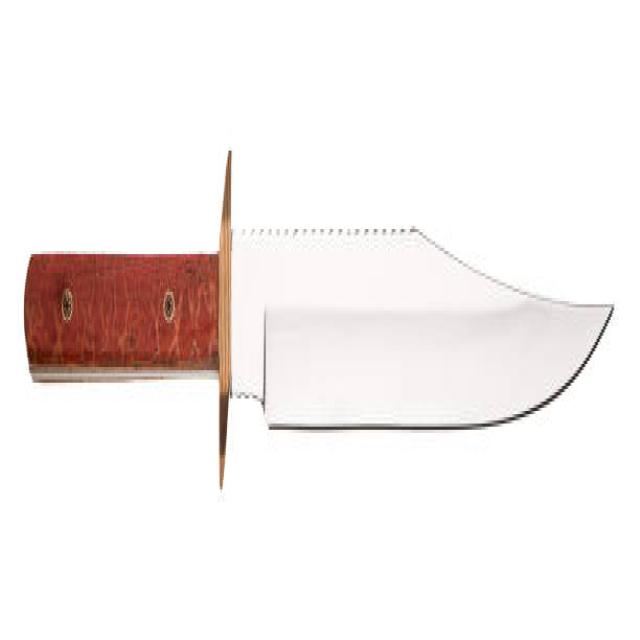knife: (21, 128, 622, 513)
